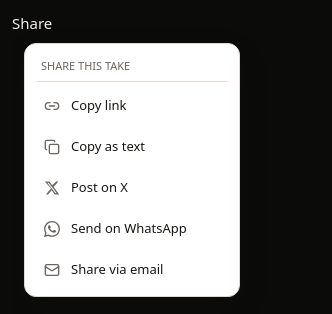
ShareDropdown › shows "Copied!" feedback after a successful copy
The width and height of the screenshot is (332, 314).
Click the menu item "Copy link" at (132, 105), box [31, 85, 233, 125]
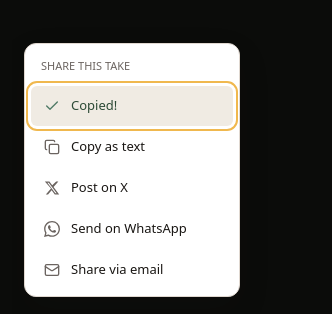
Expected: the text "Copied!" is shown, [71, 96, 117, 114]
